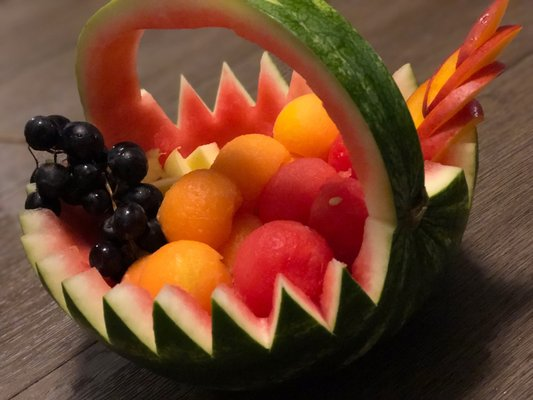sushi: (13, 0, 515, 379), (49, 0, 407, 399)
